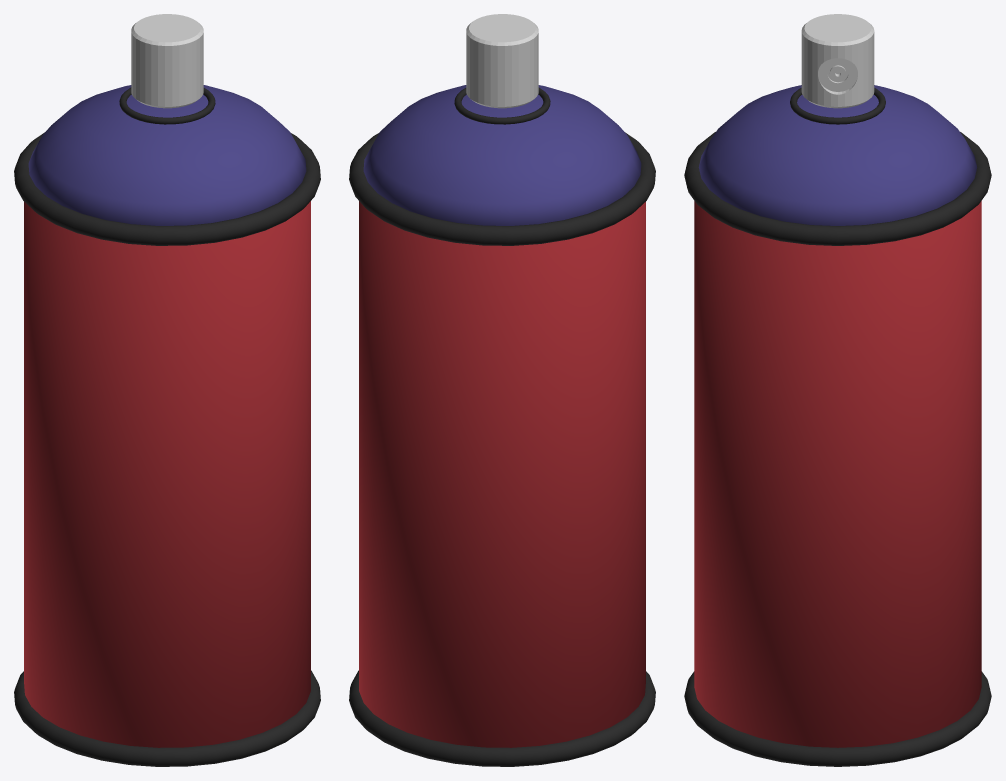
Rendered from banka2.fbx.
3 renders of one model, left to right at view 1: azimuth 30°, elevation 25°; view 2: azimuth 150°, elevation 25°; view 3: azimuth 270°, elevation 25°, orthographic.
Visible parts, largest first — view 1: Cylinder, Cone, Torus, Torus.001, Cylinder.001, Torus.002; view 2: Cylinder, Cone, Torus, Torus.001, Cylinder.001, Torus.002; view 3: Cylinder, Cone, Torus, Torus.001, Cylinder.001, Torus.002.
Boxes of the visible parts, bbox=[...] form: Cylinder: bbox=[24, 201, 310, 747]; Cone: bbox=[28, 85, 306, 225]; Torus: bbox=[14, 132, 320, 245]; Torus.001: bbox=[14, 670, 320, 766]; Cylinder.001: bbox=[131, 14, 203, 108]; Torus.002: bbox=[119, 87, 215, 124]; Cylinder: bbox=[359, 201, 645, 747]; Cone: bbox=[363, 85, 641, 225]; Torus: bbox=[349, 132, 655, 245]; Torus.001: bbox=[349, 670, 655, 766]; Cylinder.001: bbox=[466, 14, 538, 108]; Torus.002: bbox=[454, 87, 550, 124]; Cylinder: bbox=[694, 201, 981, 747]; Cone: bbox=[698, 85, 977, 225]; Torus: bbox=[684, 132, 991, 245]; Torus.001: bbox=[684, 671, 991, 766]; Cylinder.001: bbox=[801, 14, 874, 108]; Torus.002: bbox=[790, 88, 885, 124].
Size of the model in its own units: 214 by 520 by 214.
